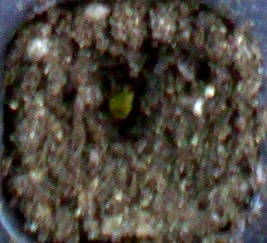pepper seed: (41, 26, 176, 148)
